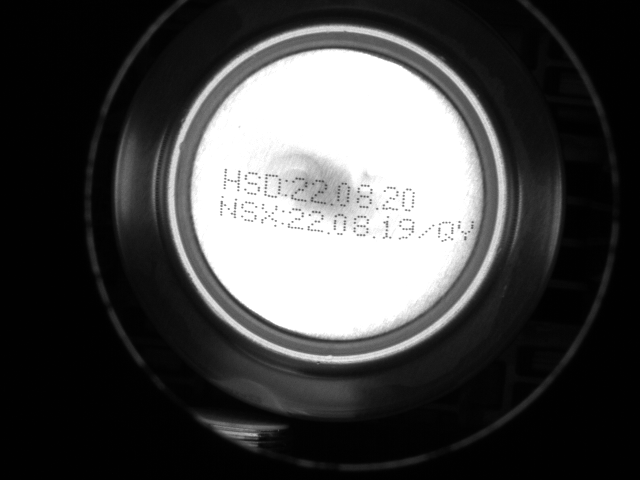/: (418, 219, 441, 243)
0: (400, 186, 419, 214), (335, 180, 351, 211), (332, 213, 351, 236)
1: (376, 216, 394, 241)
2: (376, 184, 400, 214), (287, 175, 310, 204), (313, 177, 333, 206), (309, 210, 327, 235), (288, 209, 306, 231)
8: (356, 182, 378, 211), (352, 214, 376, 239)
9: (399, 217, 415, 244)
D: (263, 172, 285, 198)
H: (221, 167, 245, 192)
N: (219, 197, 239, 219)
Q: (438, 221, 458, 243)
S: (243, 168, 265, 195), (242, 199, 262, 224)
X: (262, 203, 280, 226)
Y: (458, 220, 476, 245)
